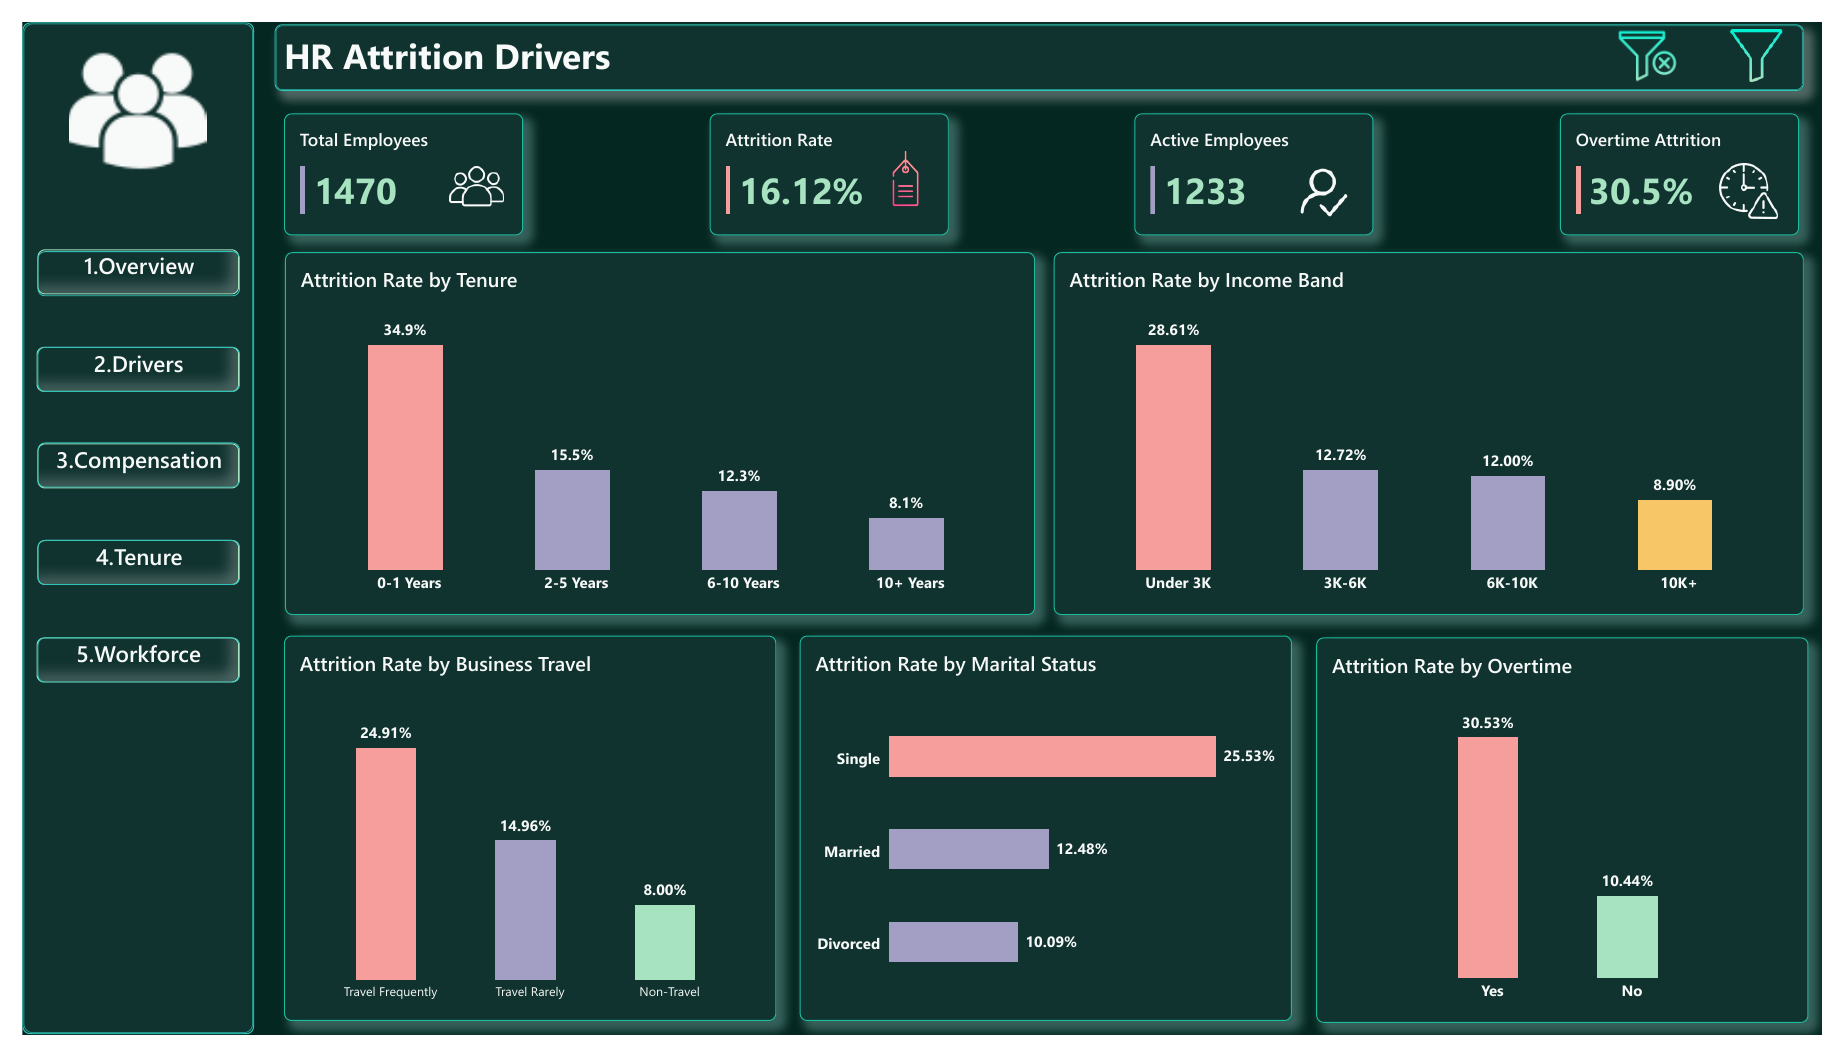

The page's visual inventory and layout, read from the dashboard file:
{"tool":"powerbi","page":{"name":"Drivers","canvas":[1920,1080],"ordinal":2},"visuals":[{"type":"shape","box":[0,0,246.6,1079.3],"z":0},{"type":"clusteredColumnChart","title":"Attrition Rate by Tenure ","fields":{"Category":["Fact_Employee.Tenure Group"],"Y":["Measures_HR.Attrition Rate"]},"box":[280,245,800,386.7],"z":1000},{"type":"multiRowCard","title":"Total Employees","fields":{"Values":["Measures_HR.Total Employees"]},"box":[279,96.6,255,130],"z":2000},{"type":"multiRowCard","title":"Overtime Attrition ","fields":{"Values":["Measures_HR.Overtime Attrition Rate"]},"box":[1639.7,96.6,255,130],"z":3000},{"type":"multiRowCard","title":"Attrition Rate ","fields":{"Values":["Measures_HR.Attrition Rate"]},"box":[732.6,96.6,255,130],"z":4000},{"type":"clusteredColumnChart","fields":{"Category":["Fact_Employee.Income Band"],"Y":["Measures_HR.Attrition Rate"]},"box":[1100,245,800,386.7],"z":5000},{"type":"clusteredColumnChart","title":"Attrition Rate by Business Travel","fields":{"Category":["Fact_Employee.business_travel"],"Y":["Measures_HR.Attrition Rate"]},"box":[279.2,654.2,525,411.1],"z":6000},{"type":"clusteredColumnChart","title":"Attrition Rate by Overtime","fields":{"Category":["Fact_Employee.over_time"],"Y":["Measures_HR.Attrition Rate"]},"box":[1380,655.7,525,411],"z":7000},{"type":"clusteredBarChart","title":"Attrition Rate by Marital Status","fields":{"Category":["Fact_Employee.marital_status"],"Y":["Measures_HR.Attrition Rate"]},"box":[829.2,654.2,525,411.1],"z":8000},{"type":"multiRowCard","title":"Active Employees","fields":{"Values":["Measures_HR.Active Employees"]},"box":[1186.1,96.6,255,130],"z":9000},{"type":"shape","title":"4.Tenure","box":[15.6,552.2,215.5,48.3],"z":10000},{"type":"shape","title":"5.Workforce","box":[15.1,655.6,215.5,48.3],"z":11000},{"type":"shape","title":"3.Compensation ","box":[15.6,448.9,215.5,48.3],"z":12000},{"type":"shape","title":"2.Drivers","box":[15.1,345.6,215.5,48.3],"z":13000},{"type":"shape","box":[268.8,2.1,1631.2,70.8],"z":15000},{"type":"image","box":[432.5,153.8,101.3,57.9],"z":16000},{"type":"image","box":[1806.2,8.3,85.4,55],"z":17000},{"type":"image","box":[1683.3,0,100,70.8],"z":18000},{"type":"textbox","box":[279.3,10.3,643.1,69],"z":19000},{"type":"image","box":[1354.2,152.1,66.7,58.3],"z":20000},{"type":"image","box":[1806.2,147.9,68.8,62.5],"z":21000},{"type":"image","box":[34.4,21.7,177.1,145.8],"z":22000},{"type":"shape","title":"1.Overview","box":[15.6,242.2,215.5,48.3],"z":23000},{"type":"actionButton","box":[16,244,216,48],"z":24000},{"type":"actionButton","box":[16,346,216,48],"z":25000},{"type":"actionButton","box":[16,448,216,48],"z":26000},{"type":"actionButton","box":[16,552,216,48],"z":27000},{"type":"actionButton","box":[16,656,216,48],"z":28000},{"type":"image","box":[910,122,64,88],"z":29000}]}

Visuals, with their boxes in screenshot pixels (x1, y1, x2, y2), scaled from the page's 1920x1080 canvas onto the 1845x1058 screenshot:
shape: bbox(0, 0, 237, 1057)
"Attrition Rate by Tenure " clusteredColumnChart: bbox(269, 240, 1038, 619)
"Total Employees" multiRowCard: bbox(268, 95, 513, 222)
"Overtime Attrition " multiRowCard: bbox(1576, 95, 1821, 222)
"Attrition Rate " multiRowCard: bbox(704, 95, 949, 222)
clusteredColumnChart - Fact_Employee.Income Band x Measures_HR.Attrition Rate: bbox(1057, 240, 1826, 619)
"Attrition Rate by Business Travel" clusteredColumnChart: bbox(268, 641, 773, 1044)
"Attrition Rate by Overtime" clusteredColumnChart: bbox(1326, 642, 1831, 1045)
"Attrition Rate by Marital Status" clusteredBarChart: bbox(797, 641, 1301, 1044)
"Active Employees" multiRowCard: bbox(1140, 95, 1385, 222)
"4.Tenure" shape: bbox(15, 541, 222, 588)
"5.Workforce" shape: bbox(15, 642, 222, 690)
"3.Compensation " shape: bbox(15, 440, 222, 487)
"2.Drivers" shape: bbox(15, 339, 222, 386)
shape: bbox(258, 2, 1826, 71)
image: bbox(416, 151, 513, 207)
image: bbox(1736, 8, 1818, 62)
image: bbox(1618, 0, 1714, 69)
textbox: bbox(268, 10, 886, 78)
image: bbox(1301, 149, 1365, 206)
image: bbox(1736, 145, 1802, 206)
image: bbox(33, 21, 203, 164)
"1.Overview" shape: bbox(15, 237, 222, 285)
actionButton: bbox(15, 239, 223, 286)
actionButton: bbox(15, 339, 223, 386)
actionButton: bbox(15, 439, 223, 486)
actionButton: bbox(15, 541, 223, 588)
actionButton: bbox(15, 643, 223, 690)
image: bbox(874, 120, 936, 206)
